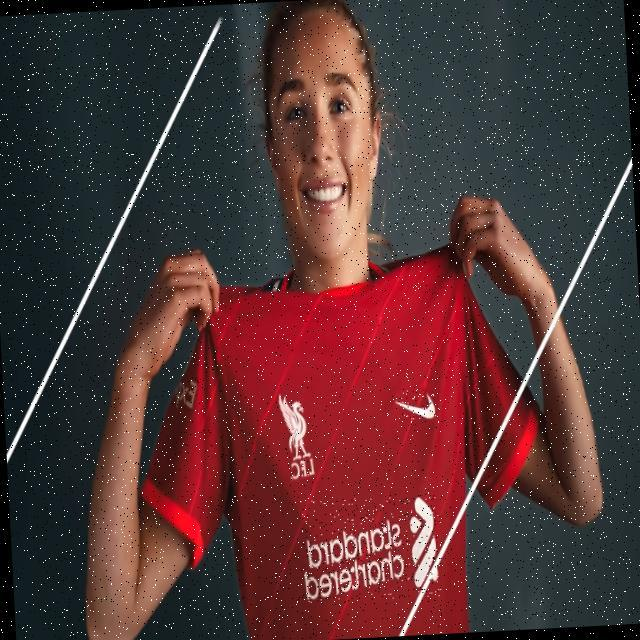Nike: (398, 389, 438, 420)
Standard Chartered: (301, 495, 445, 604)
